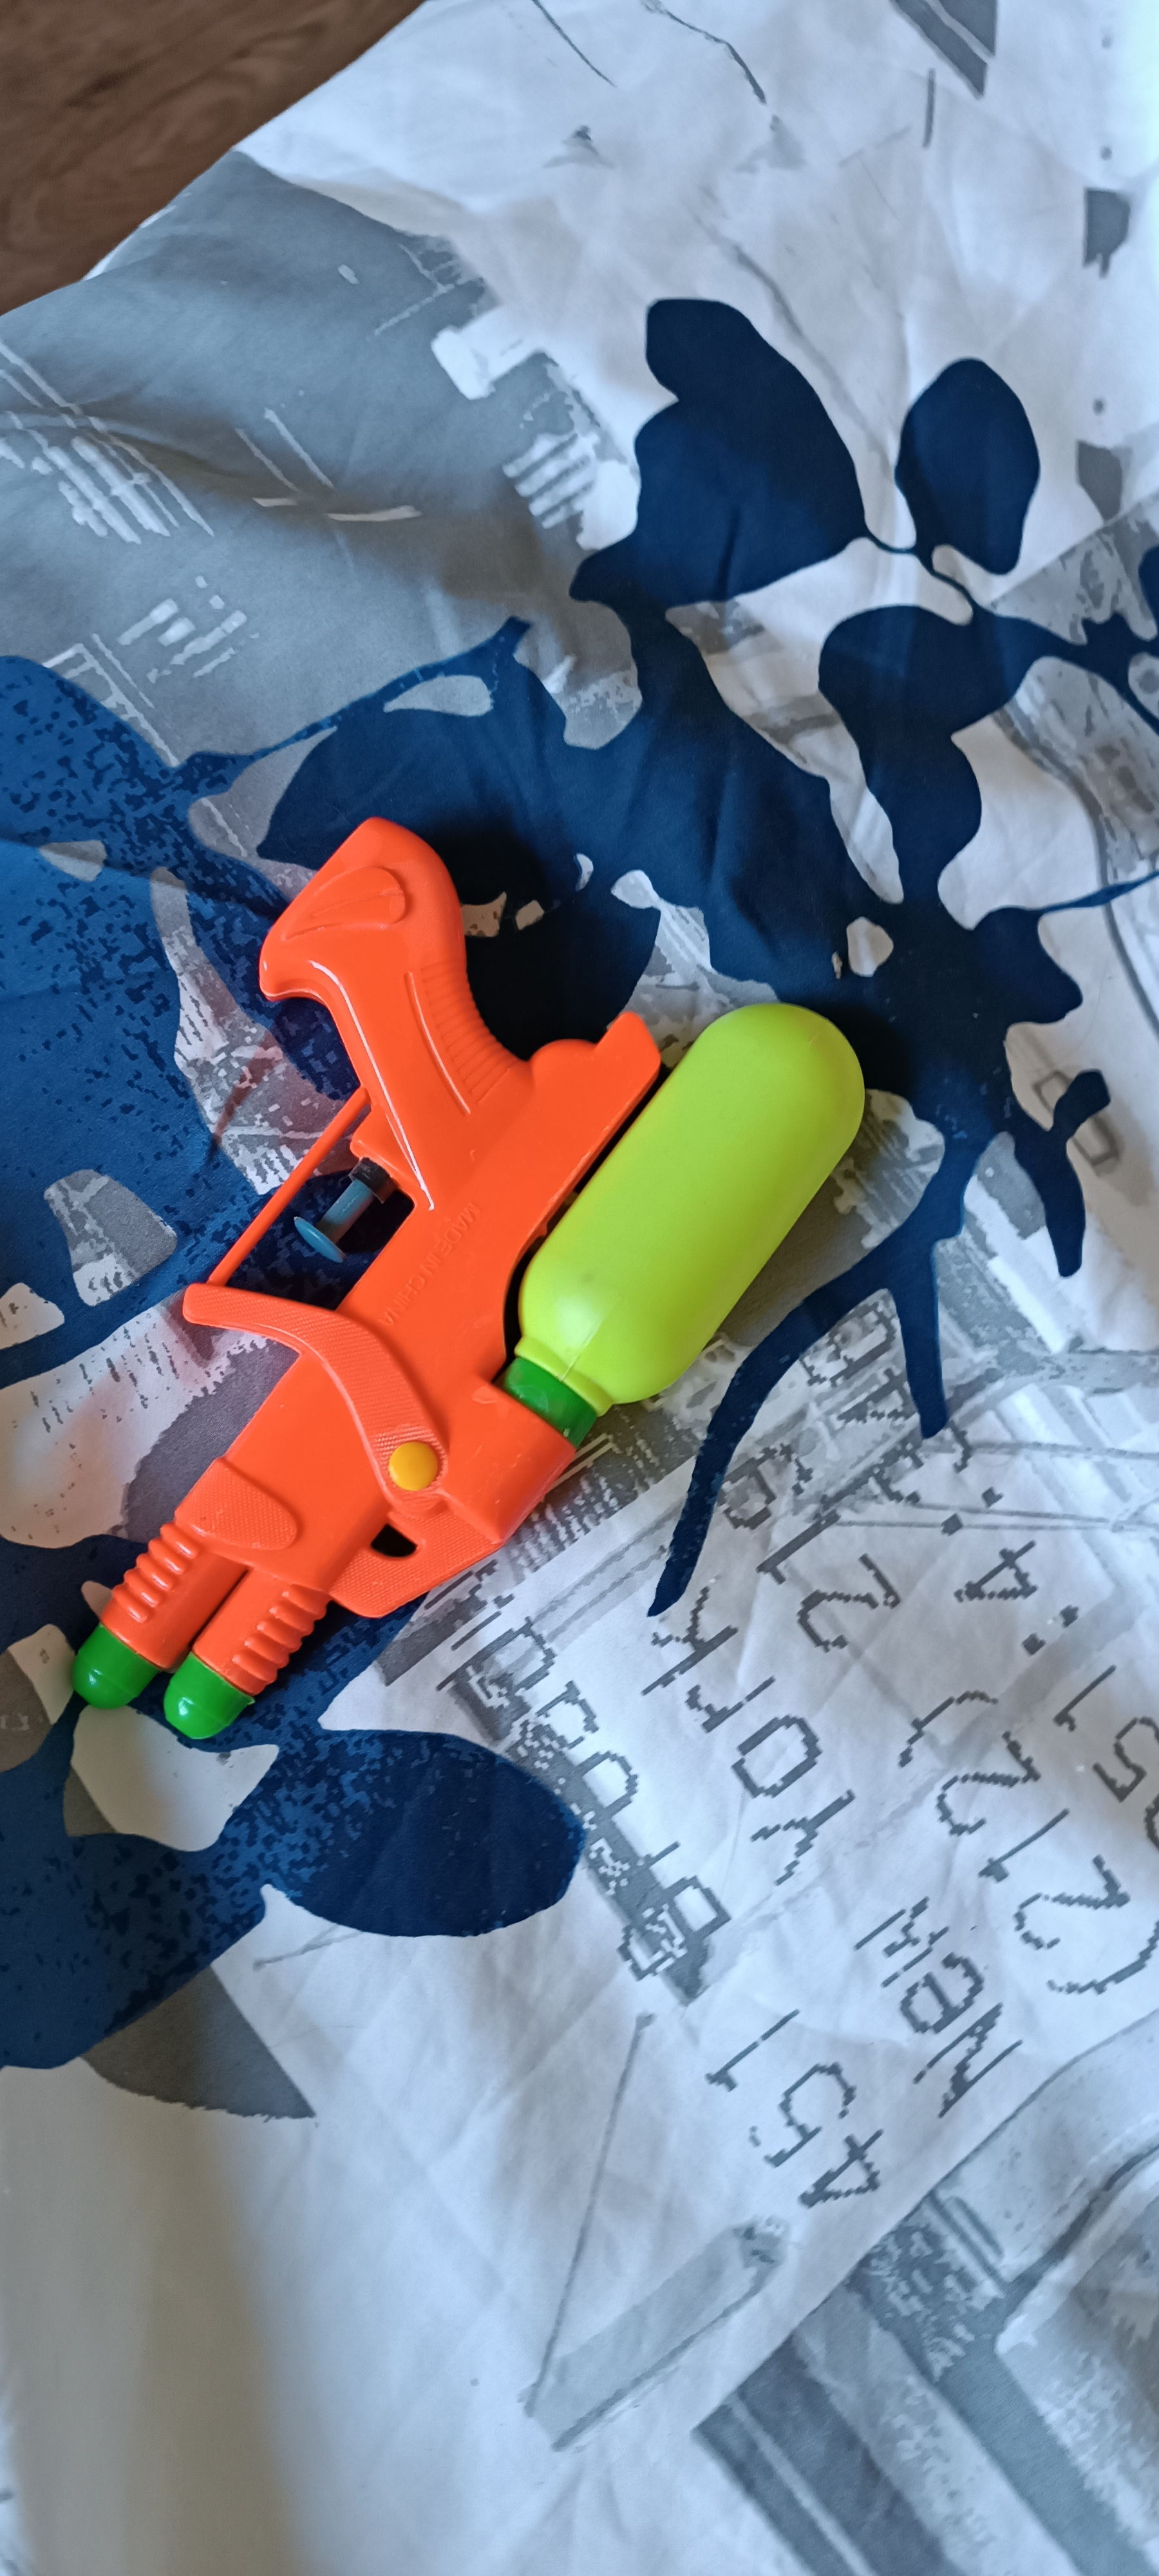Water Gun: (72, 816, 867, 1741)
